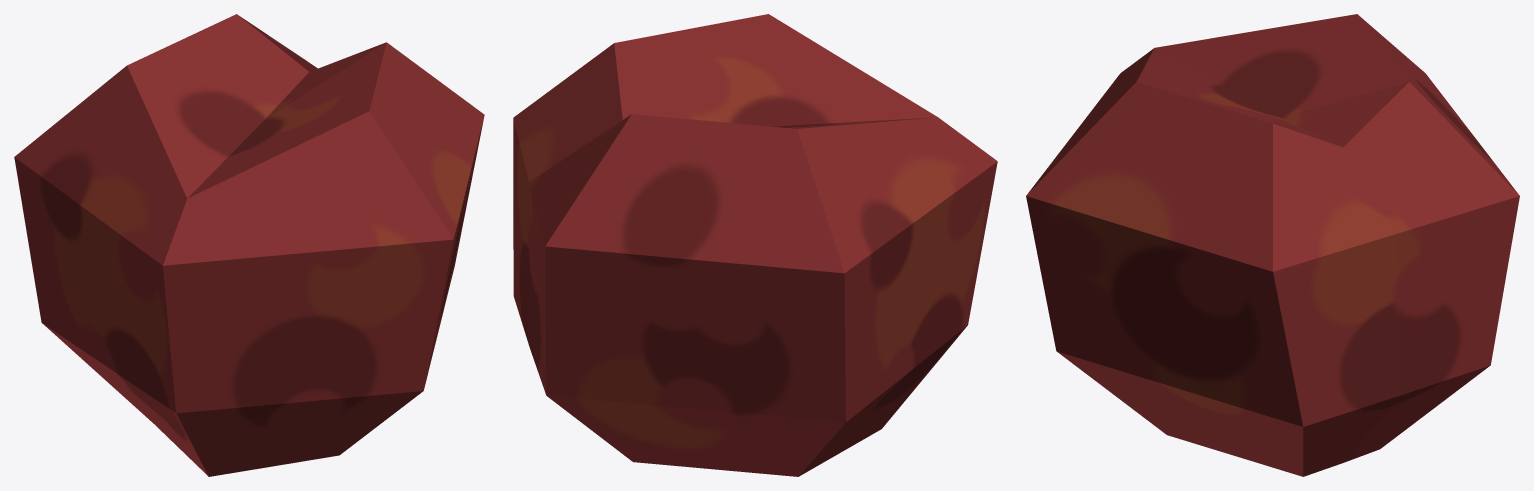
Rendered from SM_ProjectileCherry.FBX.
3 renders of one model, left to right at view 1: azimuth 30°, elevation 25°; view 2: azimuth 150°, elevation 25°; view 3: azimuth 270°, elevation 25°, orthographic. The views are drawn at different scales.
Parts seen in each view (by area): view 1: projectile bazooka; view 2: projectile bazooka; view 3: projectile bazooka.
Part boxes in pixels (<box>): projectile bazooka: <box>14,14,484,476</box>; projectile bazooka: <box>513,14,997,476</box>; projectile bazooka: <box>1026,14,1519,476</box>.
Size of the model in its own units: 4.99 by 4.23 by 5.25.
Materials: 1 (1 with a texture image).
